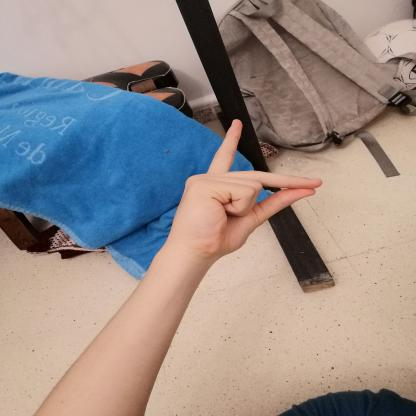TAA: (158, 109, 330, 263)
